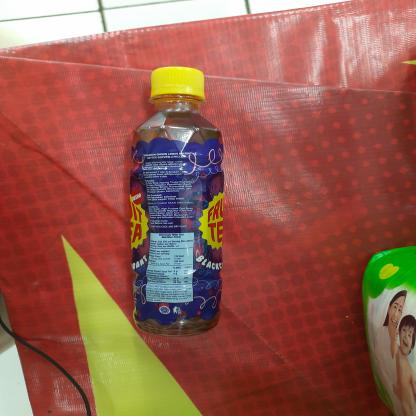bottle: (132, 64, 227, 338)
